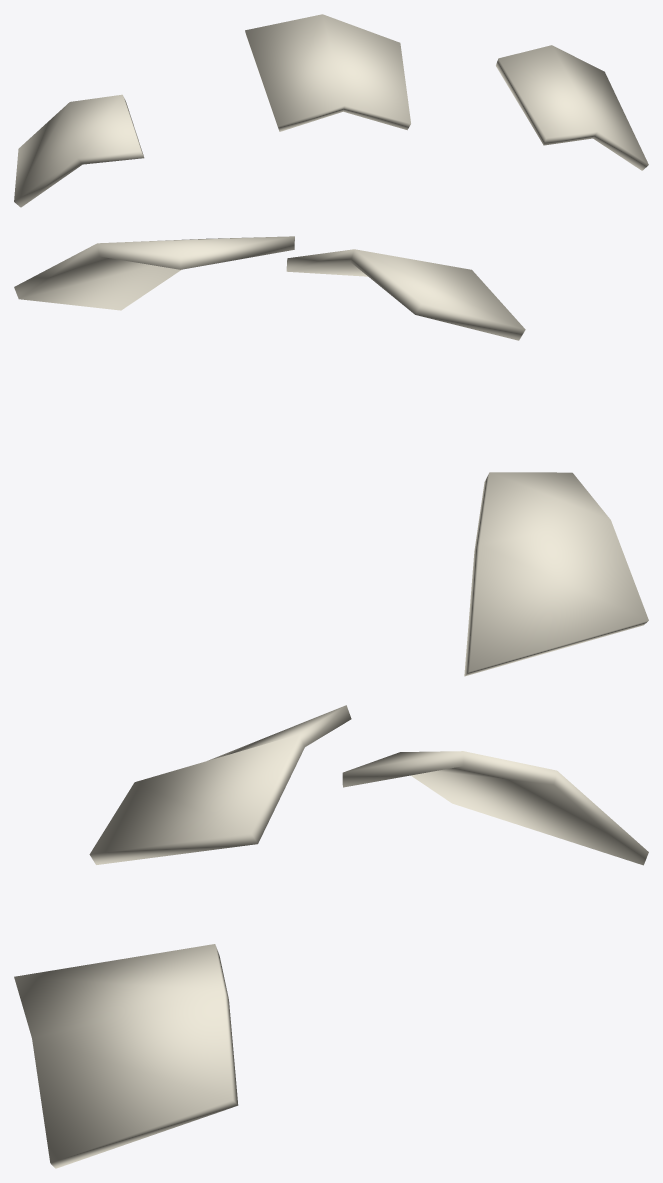
3 views of the same model, one above another, from view 1: azimuth 30°, elevation 25°; view 2: azimuth 150°, elevation 25°; view 3: azimuth 270°, elevation 25° (orthographic). The views are drawn at different scales.
Parts seen in each view (by area): view 1: ZA_4afb0fdde9b8e2d8; view 2: ZA_4afb0fdde9b8e2d8; view 3: ZA_4afb0fdde9b8e2d8.
Boxes of the visible parts, <box> form: ZA_4afb0fdde9b8e2d8: <box>14,14,648,207</box>; ZA_4afb0fdde9b8e2d8: <box>14,236,648,676</box>; ZA_4afb0fdde9b8e2d8: <box>14,705,648,1168</box>.
Bounding box in the file's own units: 0.0314 × 0.0101 × 0.0212.
